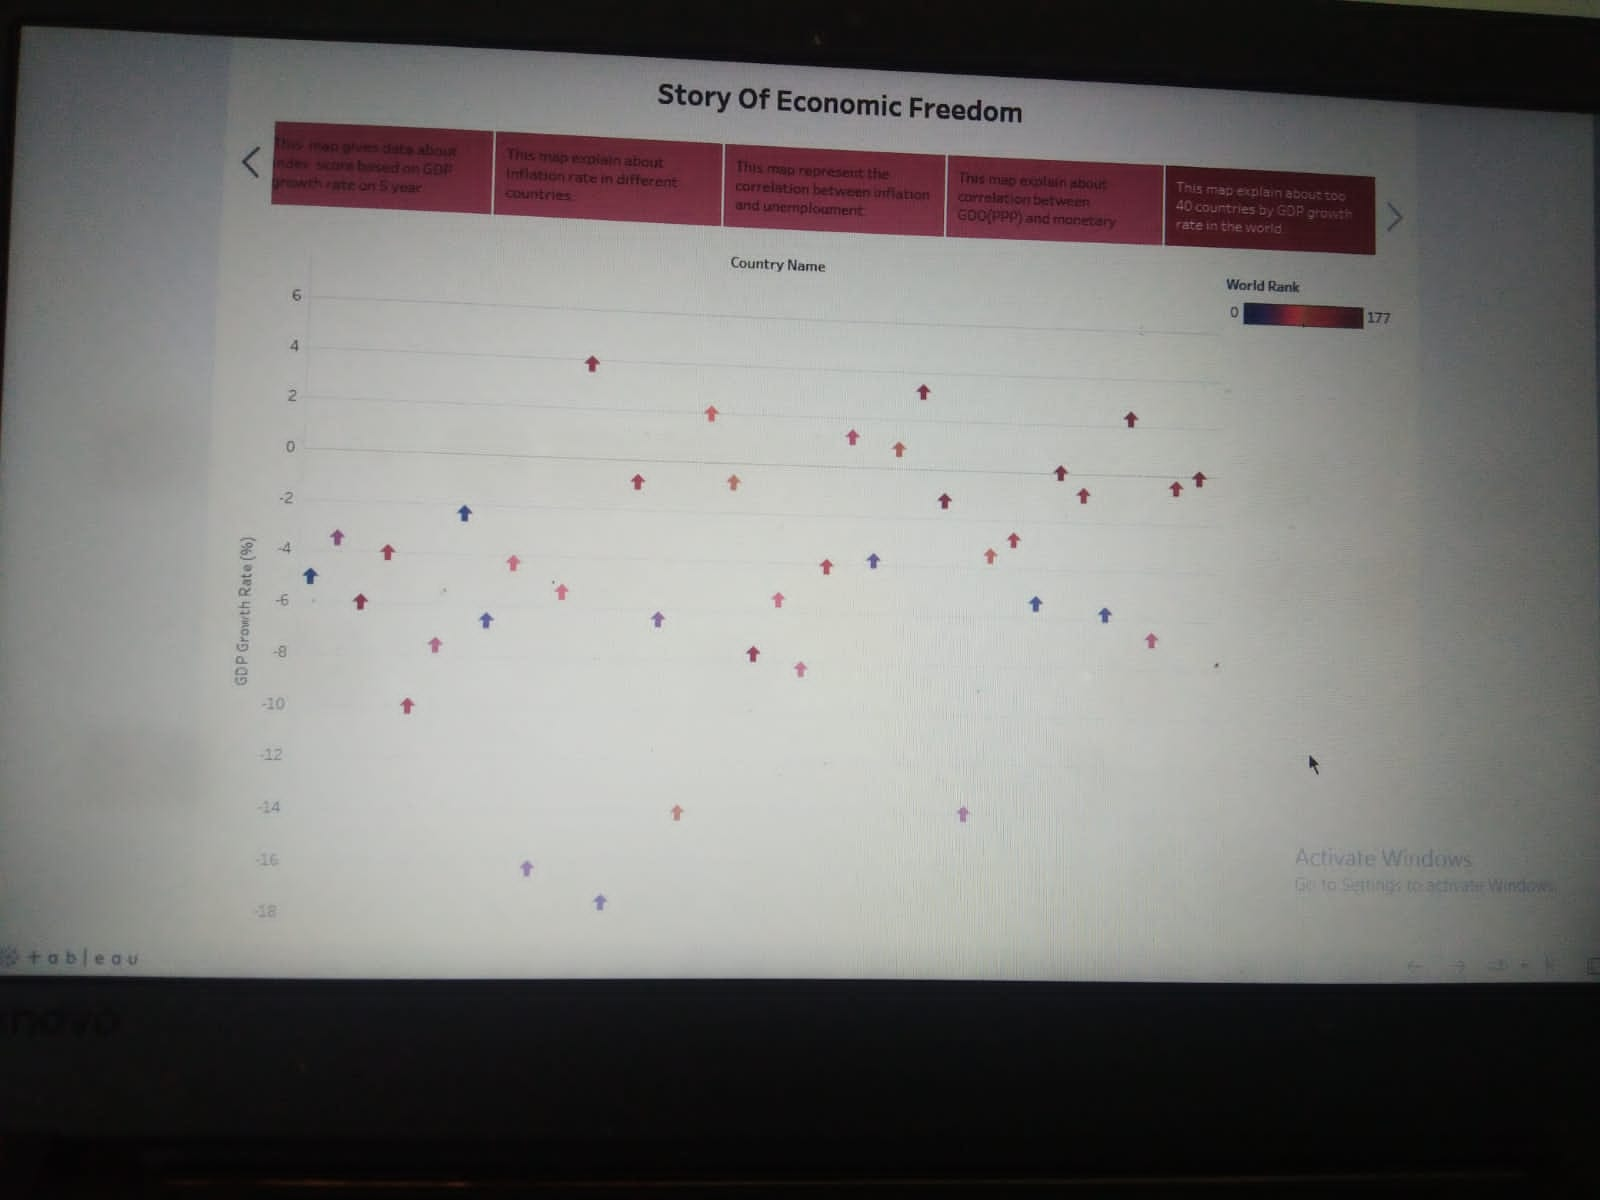

What the dashboard file says about the page in this screenshot:
{"tool":"tableau","page":{"name":"Dashboard 4","canvas":[1000,800],"ordinal":3},"visuals":[{"type":"title","box":[8,8,984,41]},{"type":"worksheet","title":"Correlation between GDP(PPP) and Monetary freedom","mark":"Line","rows":["GDP per Capita (PPP)","Monetary Freedom"],"cols":["Country Name"],"box":[119,81,758,302]},{"type":"worksheet","title":"Top 40 countries by GDP growth rate","mark":"Shape","rows":["GDP Growth Rate (%)"],"cols":["Country Name"],"box":[119,425,758,341]}]}

Visuals, with their boxes on the page's 1000x800 design canvas (x1, y1, x2, y2). These are canvas units, not pixel positions in the 1600x1200 screenshot, which may show the page scaled, cropped or inside an application window:
title: (left=8, top=8, right=992, bottom=49)
"Correlation between GDP(PPP) and Monetary freedom" worksheet (Line marks): (left=119, top=81, right=877, bottom=383)
"Top 40 countries by GDP growth rate" worksheet (Shape marks): (left=119, top=425, right=877, bottom=766)
